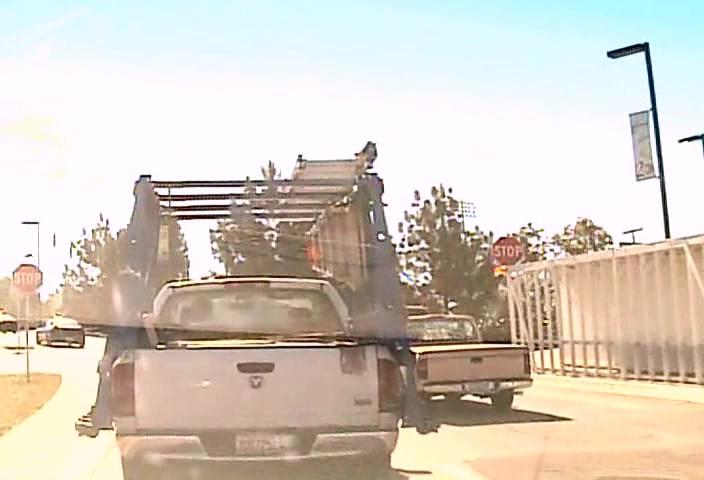stop: (493, 236, 524, 266)
